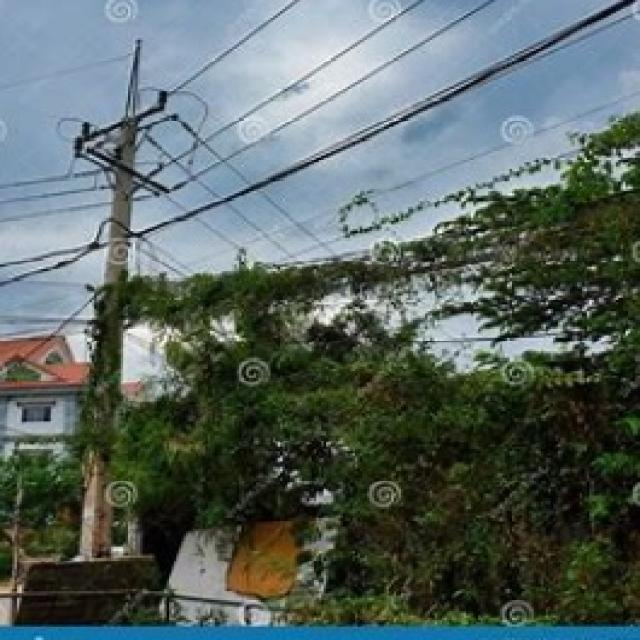critical vegetation: (118, 222, 640, 406)
